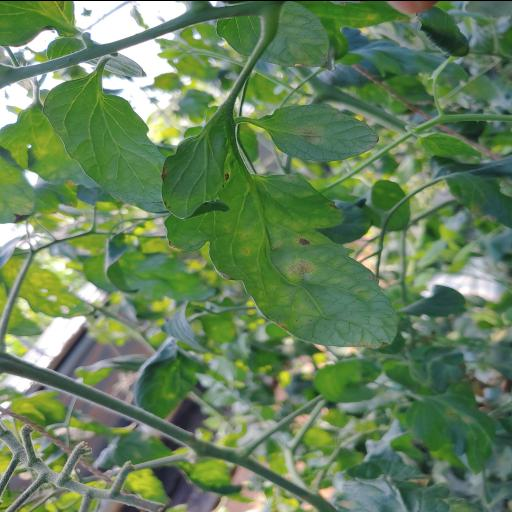Healthy: (40, 76, 166, 204)
Leaf Mold: (159, 134, 401, 350), (264, 104, 382, 160)
